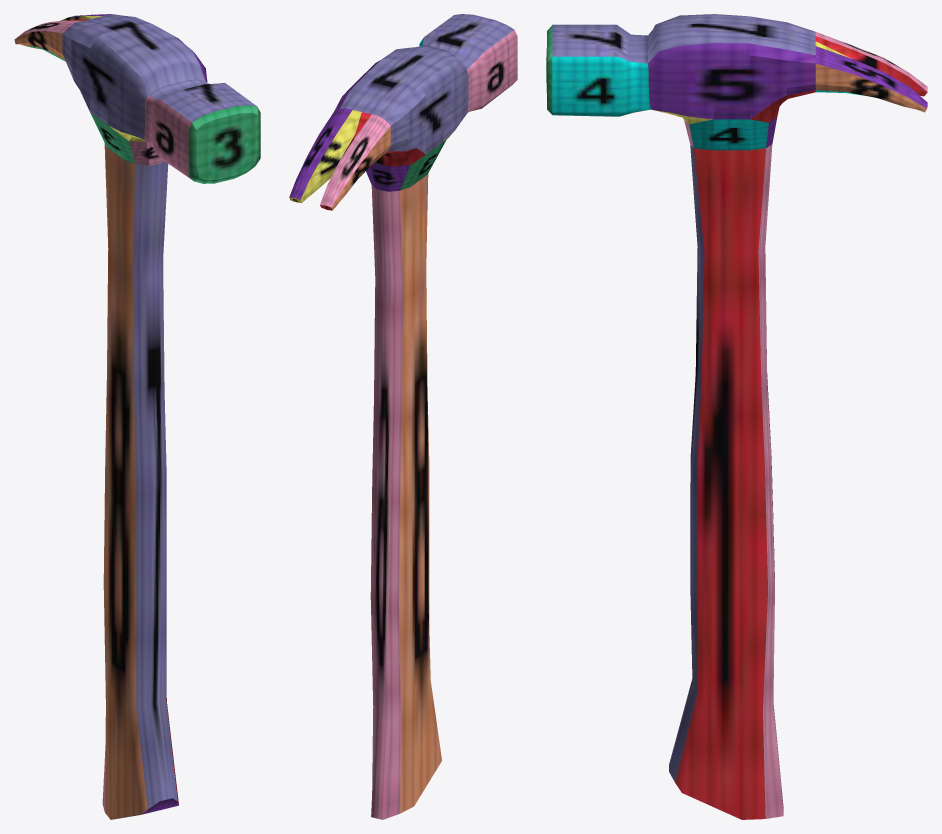
File: ConstructionHammer.dae
The picture shows the model from 3 angles, left to right: view 1: azimuth 30°, elevation 25°; view 2: azimuth 150°, elevation 25°; view 3: azimuth 270°, elevation 25°; orthographic projection. The views are drawn at different scales.
Parts seen in each view (by area): view 1: ConHammer_mesh; view 2: ConHammer_mesh; view 3: ConHammer_mesh.
Part boxes in pixels (<box>): ConHammer_mesh: <box>14,14,260,819</box>; ConHammer_mesh: <box>289,14,517,819</box>; ConHammer_mesh: <box>546,14,927,819</box>.
Bounding box in the file's own units: 0.0236 × 0.2478 × 0.1088.
